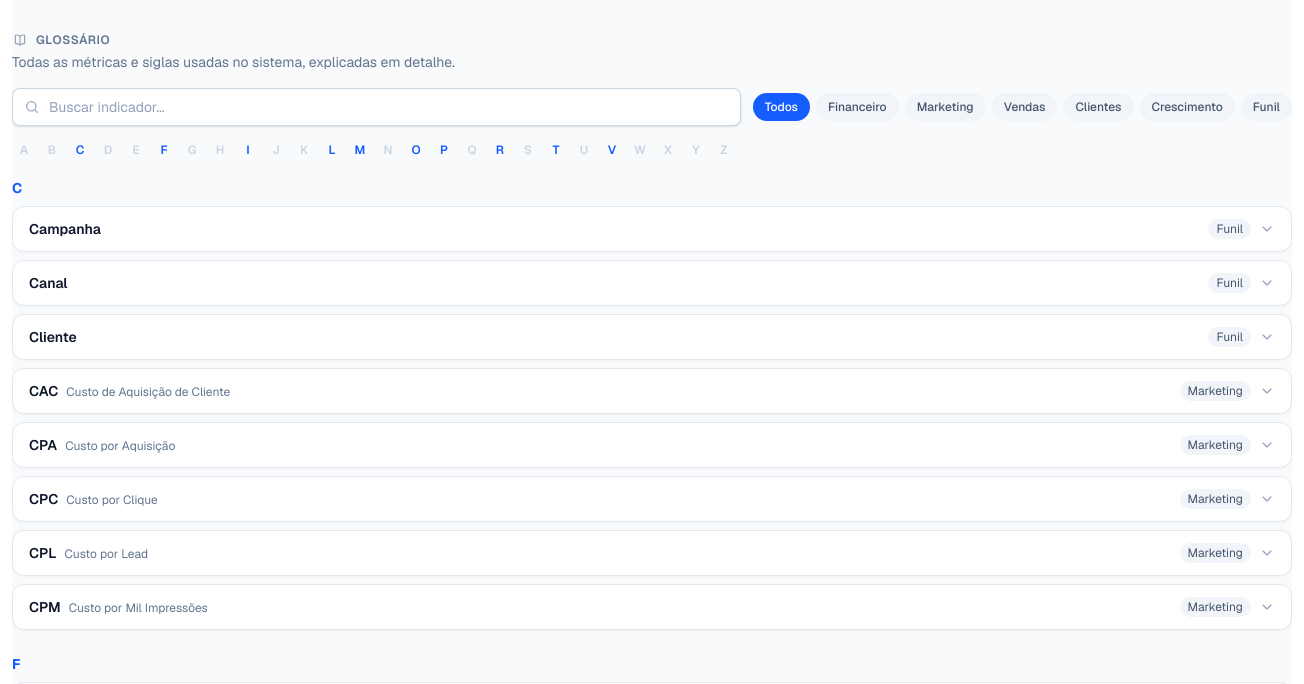
Test: GlossaryPage › clicar num item expande a definicao completa
Click the button "CAC Custo de Aquisição de Cliente Marketing" at (148, 392), box left=13, top=369, right=1291, bottom=413
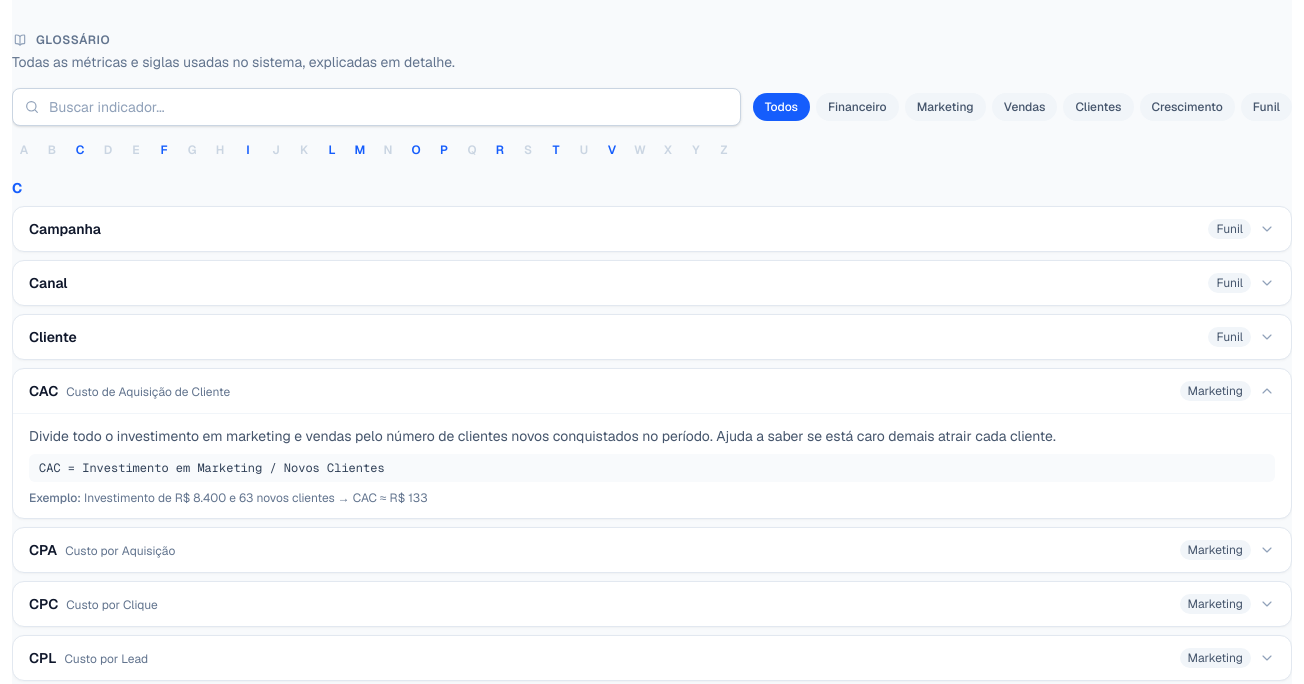
Expected: the button "CAC Custo de Aquisição de Cliente Marketing" is expanded, left=13, top=369, right=1291, bottom=413
Expected: the text "CAC = Investimento em Marketing / Novos Clientes" is shown, left=29, top=454, right=1275, bottom=482
